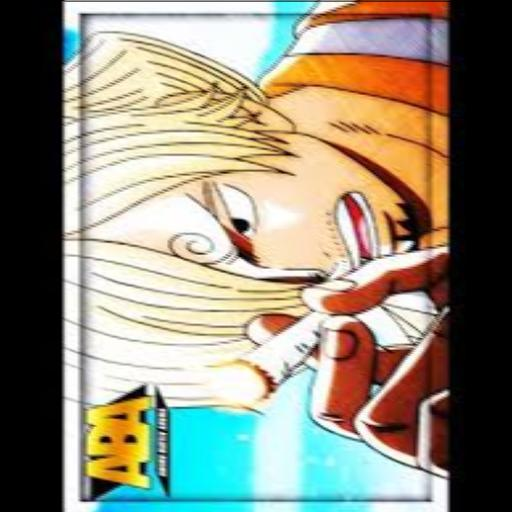sanji: (65, 0, 512, 462)
